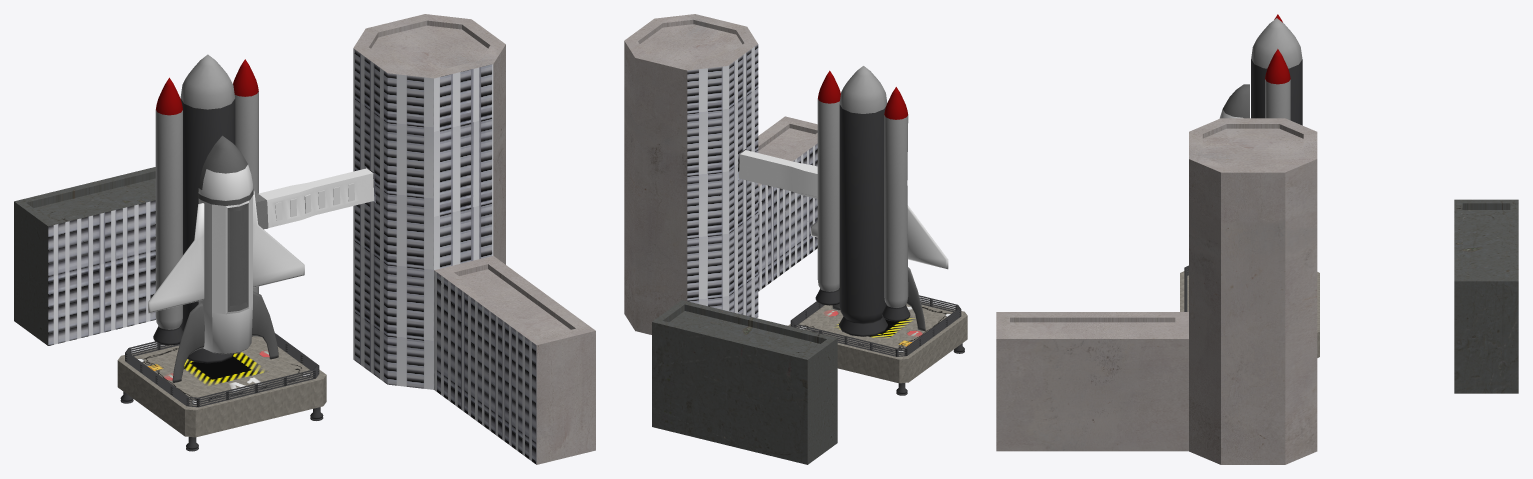
3 renders of one model, left to right at view 1: azimuth 30°, elevation 25°; view 2: azimuth 150°, elevation 25°; view 3: azimuth 270°, elevation 25°, orthographic. The views are drawn at different scales.
Visible parts, largest first — view 1: Edificio_Grande, object 2, Nave, Plataforma, Propulsores_Nave, Propulsor_Nave_Izq, Pasarela, Propulsor_Nave_Dch; view 2: Edificio_Grande, object 2, Propulsores_Nave, Plataforma, Propulsor_Nave_Izq, Propulsor_Nave_Dch, Pasarela, Nave; view 3: Edificio_Grande, object 2, Propulsores_Nave, Propulsor_Nave_Dch, Nave, Plataforma.
Boxes of the visible parts, <box> form: Edificio_Grande: <box>353,14,595,464</box>; object 2: <box>14,167,155,345</box>; Nave: <box>148,135,304,382</box>; Plataforma: <box>117,333,326,451</box>; Propulsores_Nave: <box>180,54,235,363</box>; Propulsor_Nave_Izq: <box>153,77,182,345</box>; Pasarela: <box>254,168,374,229</box>; Propulsor_Nave_Dch: <box>233,59,258,293</box>; Edificio_Grande: <box>624,14,817,334</box>; object 2: <box>652,300,837,464</box>; Propulsores_Nave: <box>839,66,887,336</box>; Plataforma: <box>788,295,967,395</box>; Propulsor_Nave_Izq: <box>882,87,910,321</box>; Propulsor_Nave_Dch: <box>815,70,840,305</box>; Pasarela: <box>739,150,817,198</box>; Nave: <box>811,205,948,330</box>; Edificio_Grande: <box>996,118,1317,464</box>; object 2: <box>1454,199,1518,393</box>; Propulsores_Nave: <box>1251,18,1302,125</box>; Propulsor_Nave_Dch: <box>1265,49,1290,120</box>; Nave: <box>1219,84,1249,118</box>; Plataforma: <box>1180,265,1319,357</box>.
Bounding box in the file's own units: 1.46 × 1.39 × 2.03.
Materials: 8 (7 with a texture image).
